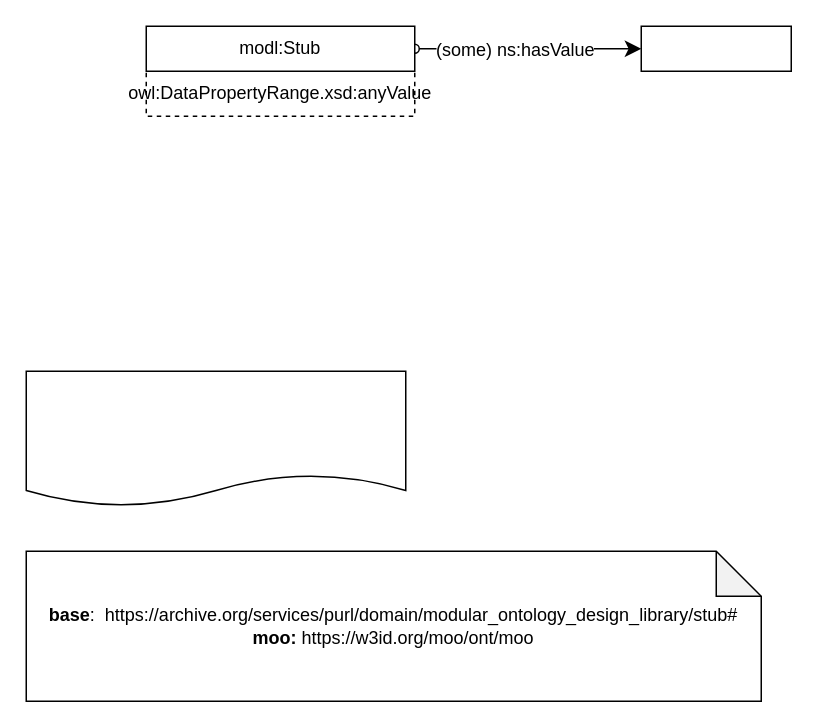
This 818x728 diagram has some shape labels left out. Each missing label, with the centre of its shape:
dc:creator: Chandler Cunningham owl:versionInfo: 0.0.1 dc:title: Stub Pattern: [215,438]
xsd:anyValue: [715,48]
